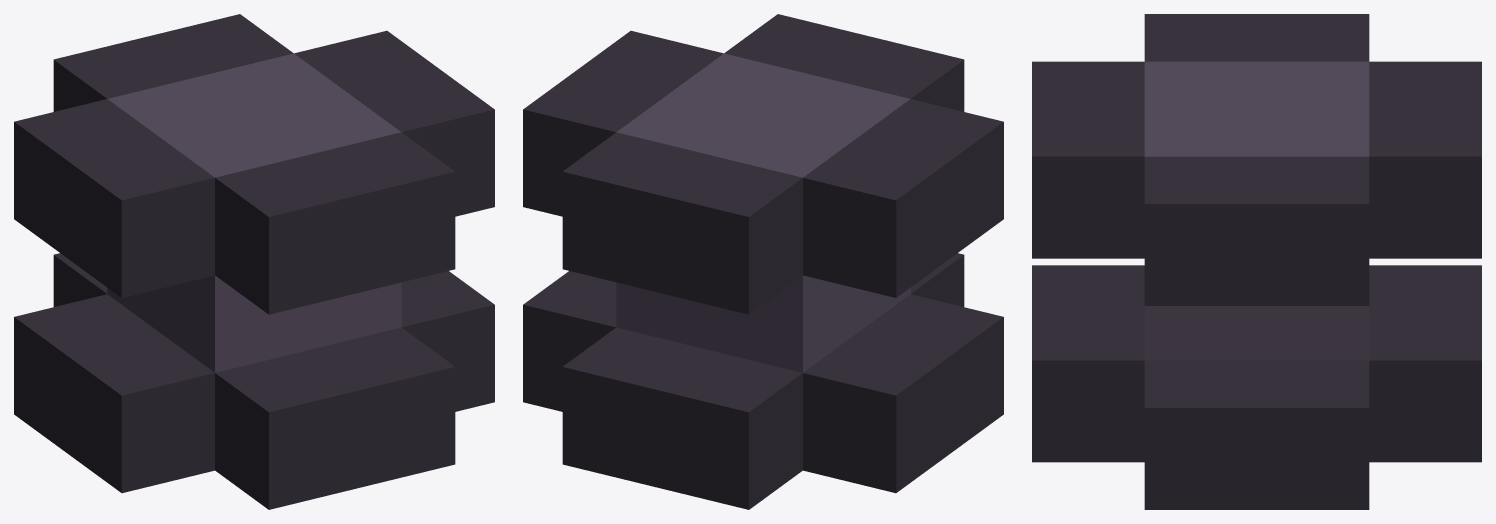
File: can_sniper-2.fbx
3 views of the same model, side by side, from view 1: azimuth 30°, elevation 25°; view 2: azimuth 150°, elevation 25°; view 3: azimuth 270°, elevation 25° (orthographic). The views are drawn at different scales.
Visible parts, largest first — view 1: can_sniper-2.001; view 2: can_sniper-2.001; view 3: can_sniper-2.001.
Part boxes in pixels (<box>): can_sniper-2.001: <box>14,14,494,509</box>; can_sniper-2.001: <box>523,14,1003,509</box>; can_sniper-2.001: <box>1032,14,1481,509</box>.
Bounding box in the file's own units: 0.4 × 0.3 × 0.4.
Materials: 1 (1 with a texture image).
